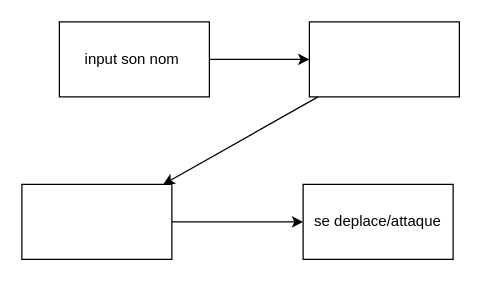
This 481x281 diagram has some shape labels left out. The centre of each missing label's shape, as x and y in pixels:
"choisi 3 perso" belongs at pixel 383 59.
"play" belongs at pixel 96 221.
